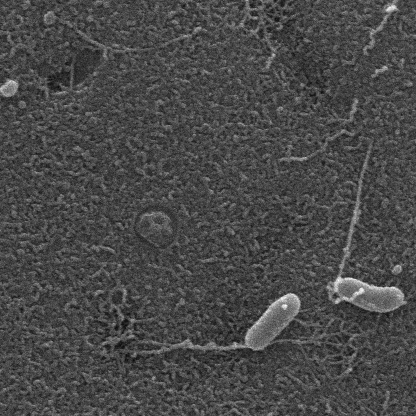cell2surface: (338, 143, 372, 282), (144, 335, 249, 352), (271, 337, 327, 348)
regular: (246, 294, 302, 352)
